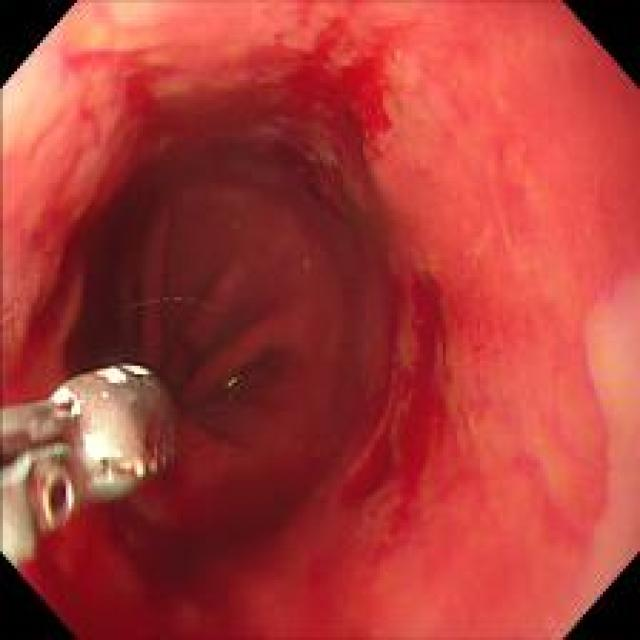blood: (81, 36, 392, 196), (96, 495, 306, 624), (349, 352, 436, 506), (408, 269, 450, 370)
blur: (1, 361, 182, 566)
color misalignment: (98, 454, 124, 492), (222, 364, 250, 394)
contrast: (69, 136, 392, 636)
instrument: (1, 360, 184, 566)
specularity: (46, 384, 81, 415), (81, 432, 119, 460), (94, 365, 124, 386), (120, 360, 151, 376)
